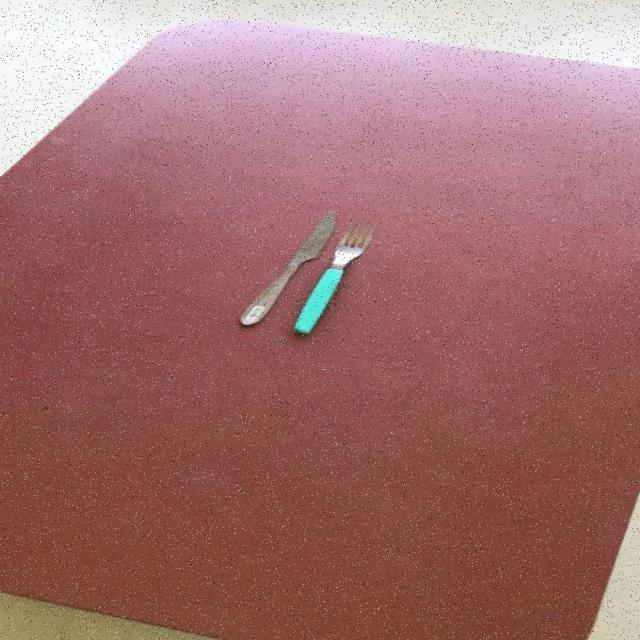Fork: (294, 227, 377, 335)
Knife: (240, 208, 340, 326)
